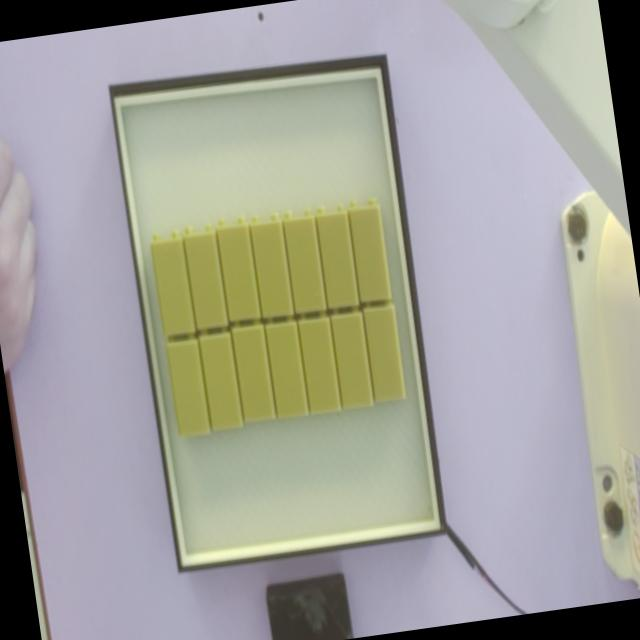bateria: (183, 224, 229, 331), (150, 231, 196, 335), (315, 204, 360, 310), (347, 197, 392, 303), (362, 301, 407, 406), (330, 306, 375, 411), (231, 320, 276, 425), (166, 332, 211, 437), (198, 328, 243, 432), (250, 213, 294, 319), (283, 209, 327, 315), (217, 218, 261, 323), (265, 316, 309, 421), (298, 312, 342, 416)
mesa: (108, 53, 448, 572)
